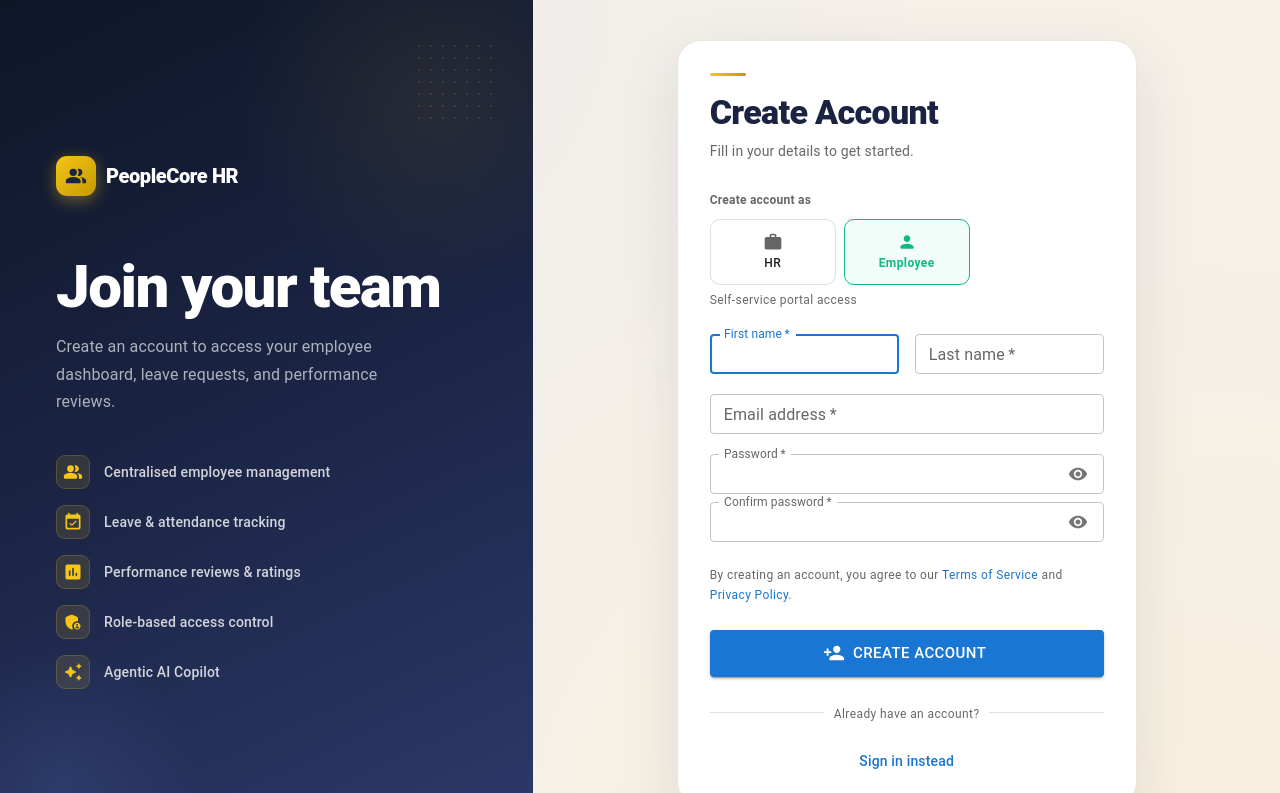
Test case: RegisterPage › Successful registration › disables submit button while loading
The width and height of the screenshot is (1280, 793).
Type "Jane" into the field labelled "First name *". click: (804, 354)
box: [710, 334, 899, 374]
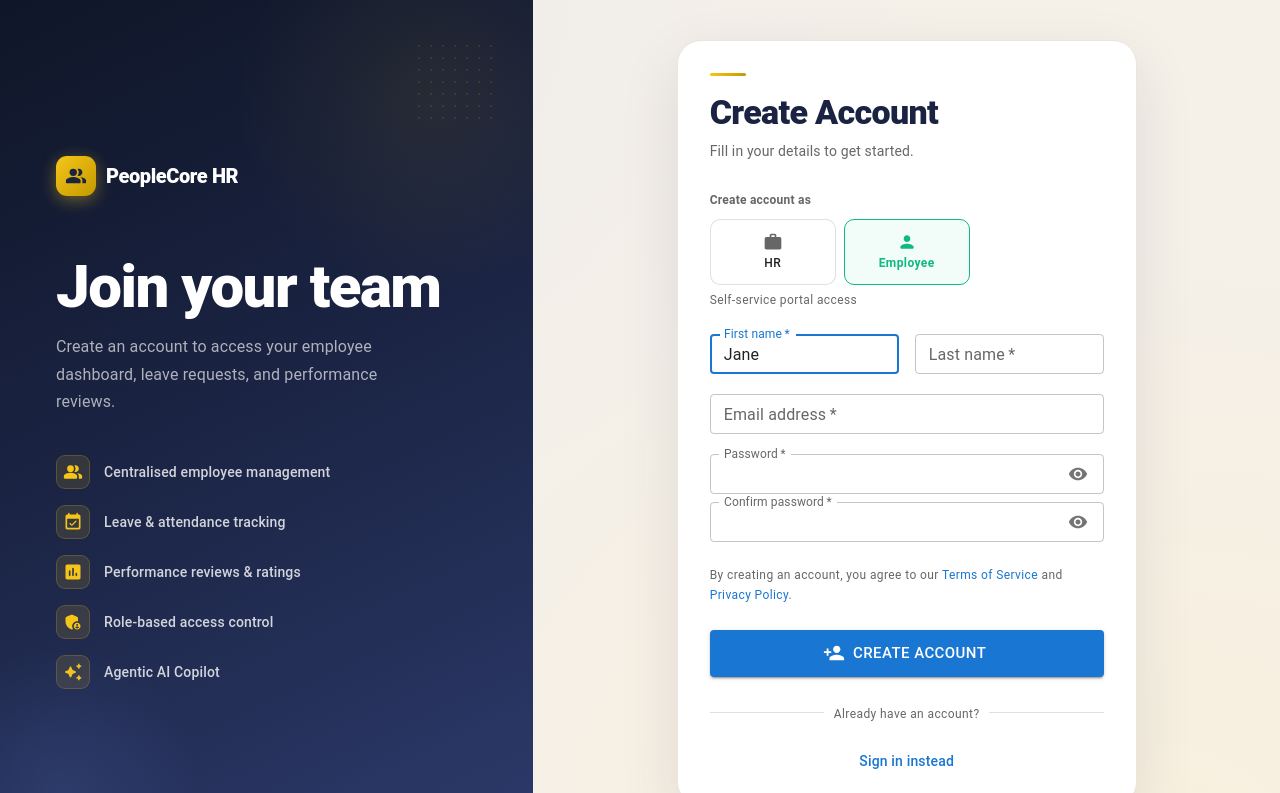
Type "Smith" into the field labelled "Last name *". click: (1009, 354)
box: [915, 334, 1104, 374]
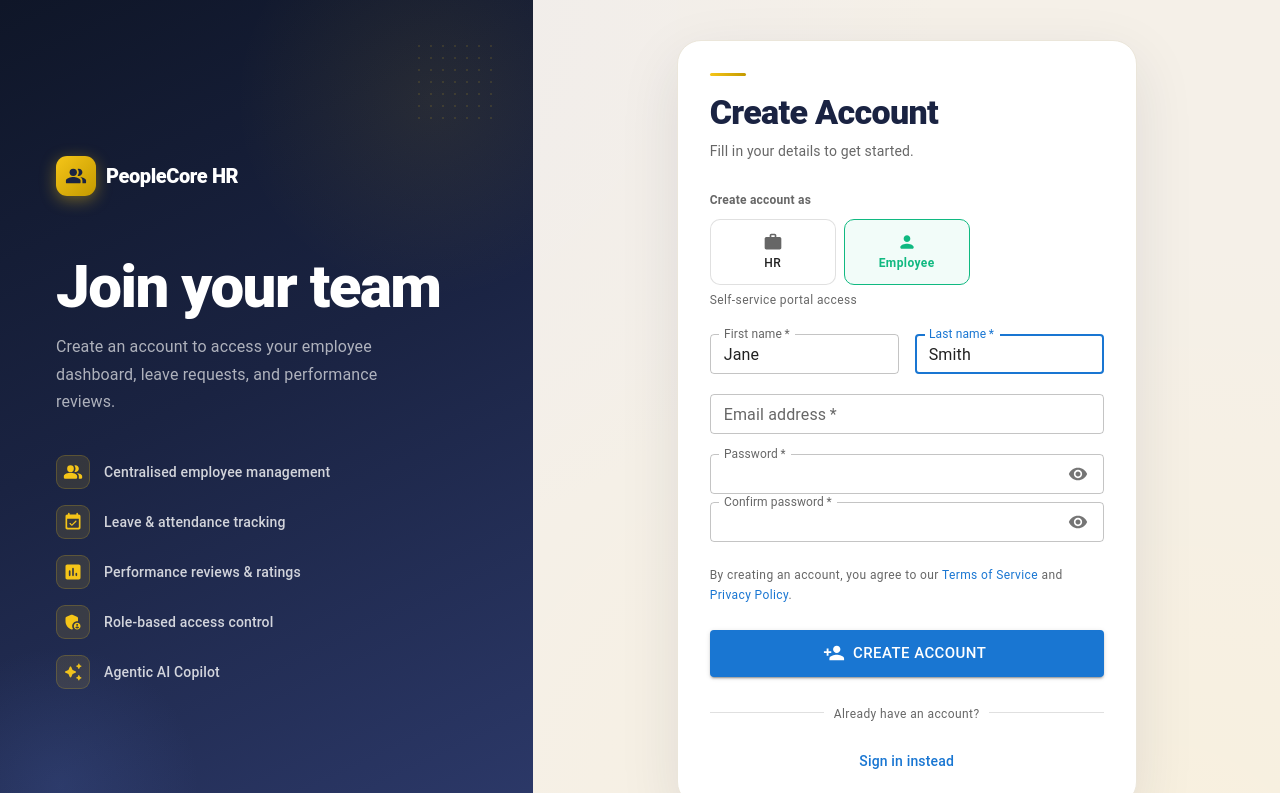
Type "jane@example.com" into the field labelled "Email address *". click: (907, 414)
box: [710, 394, 1104, 434]
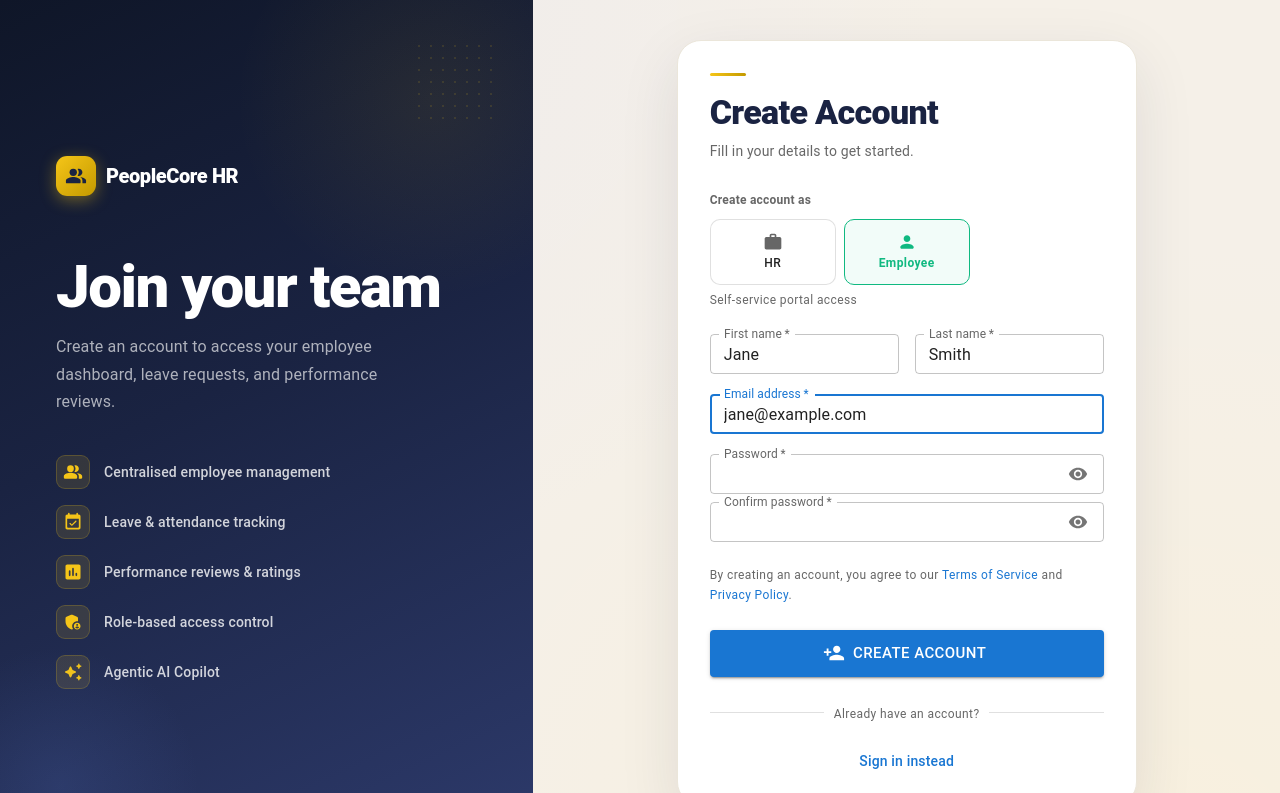
Type "StrongP@ss1" into the password field labelled "Password *". click: (882, 474)
box: [710, 454, 1055, 494]
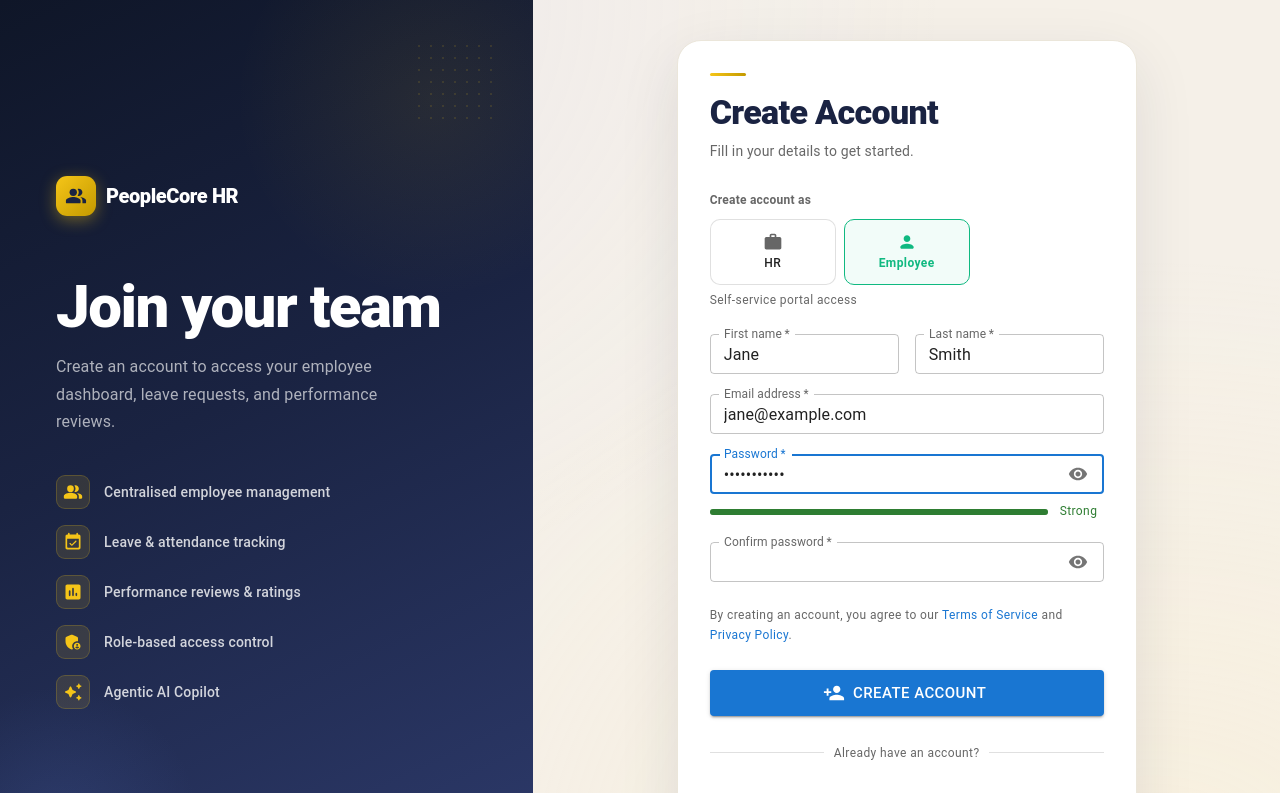
Type "StrongP@ss1" into the password field labelled "Confirm password *". click: (882, 562)
box: [710, 542, 1055, 582]
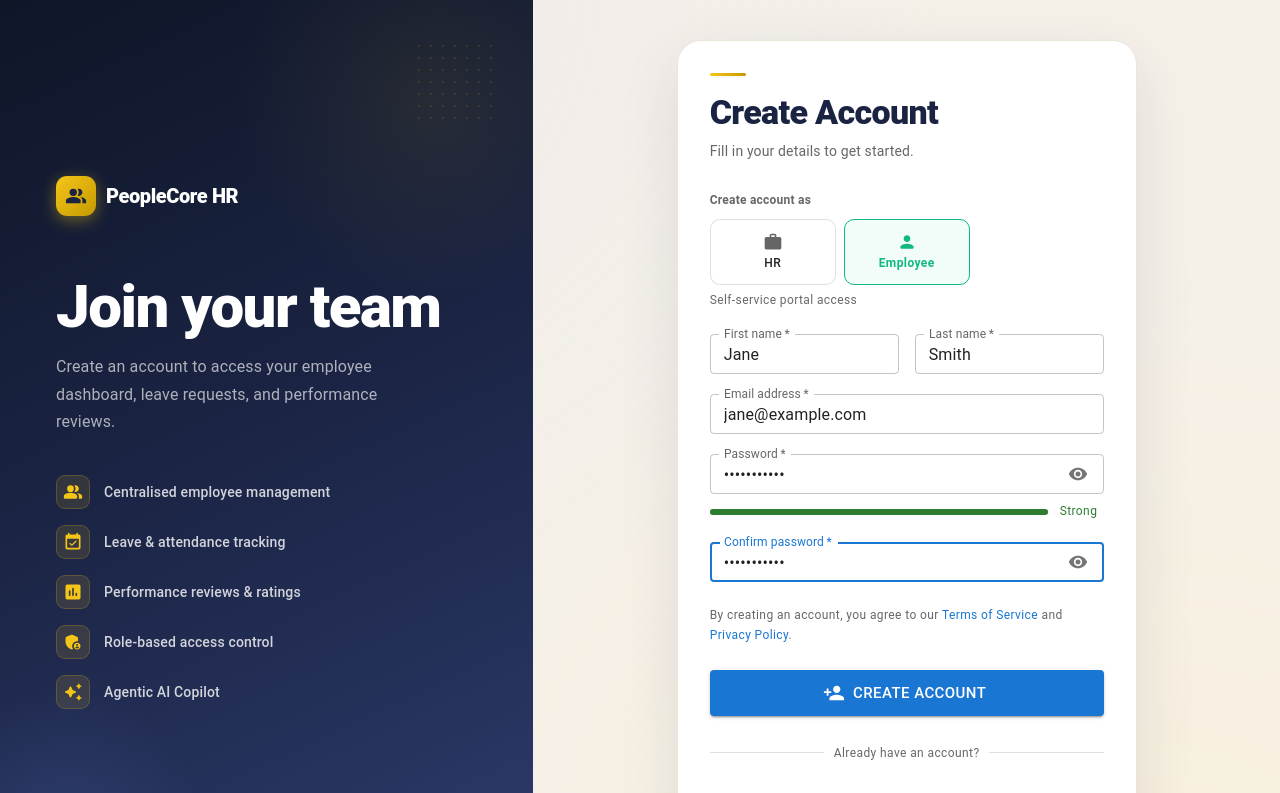
Click the button "Create Account". click: (907, 693)
box: [710, 670, 1104, 716]
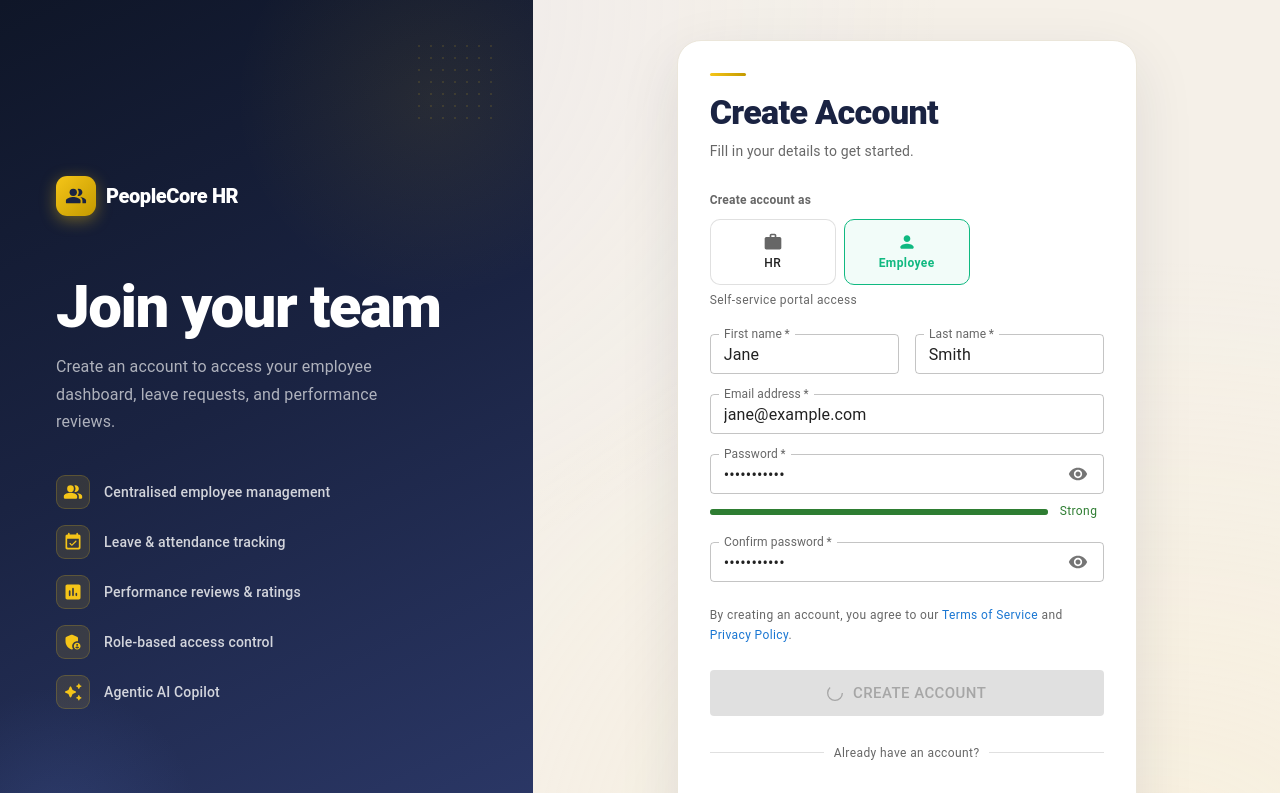
Now the button "Create Account" is disabled, box [710, 670, 1104, 716]
